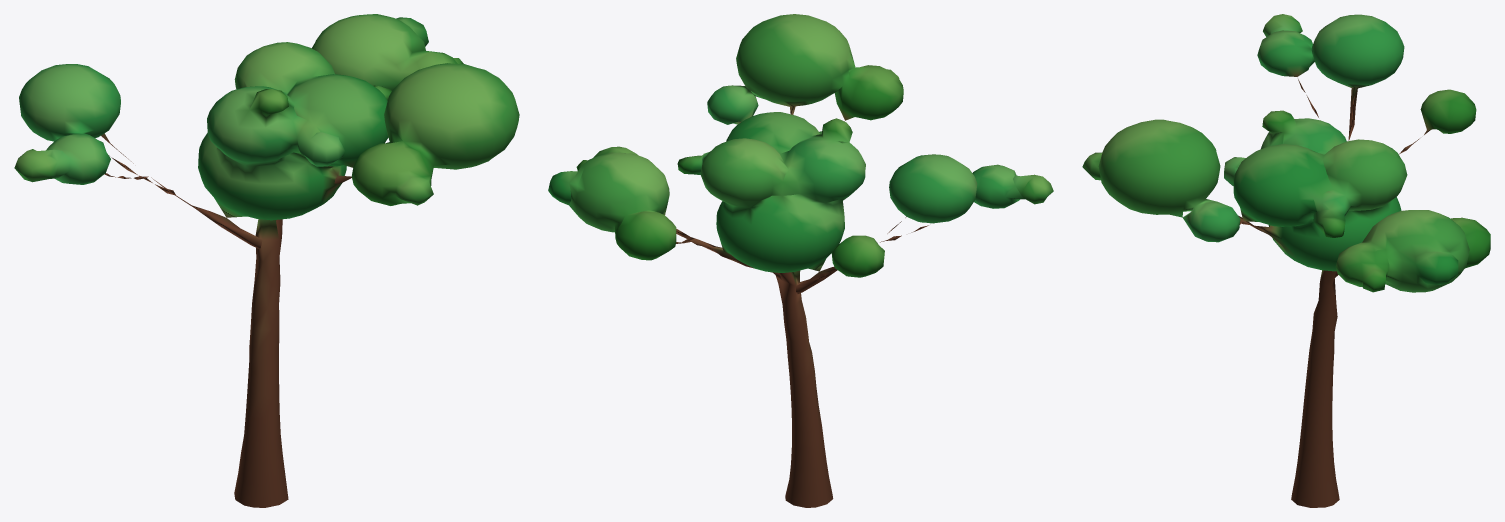
The model's file is acacia-tree-110-lod1.obj.
3 renders of one model, left to right at view 1: azimuth 30°, elevation 25°; view 2: azimuth 150°, elevation 25°; view 3: azimuth 270°, elevation 25°, orthographic. The views are drawn at different scales.
Visible parts, largest first — view 1: simplified; view 2: simplified; view 3: simplified.
Boxes of the visible parts, box(x1,y1,x2,y2) form: simplified: box(14, 14, 519, 507); simplified: box(548, 14, 1053, 507); simplified: box(1082, 14, 1490, 507).
Bounding box in the file's own units: 483 × 430 × 382.
